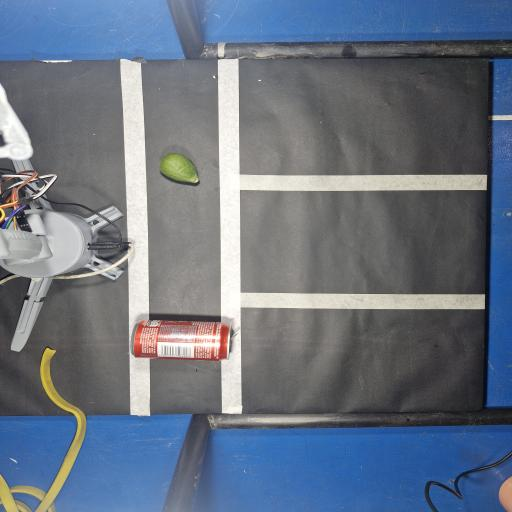higo: (159, 153, 198, 183)
lata: (131, 320, 231, 360)
